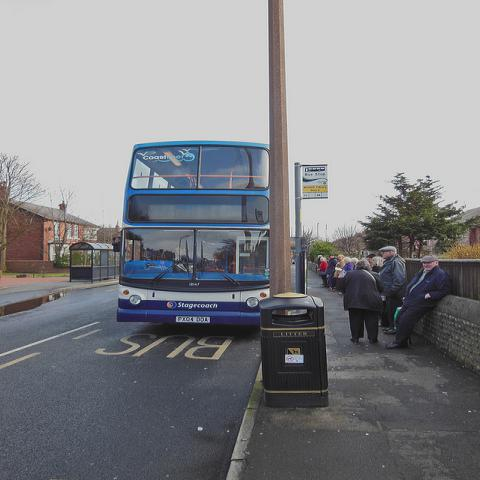bus: (111, 144, 272, 338)
